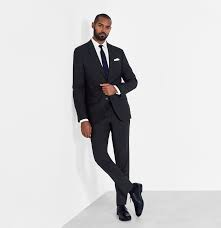black_male: (88, 11, 113, 38)
